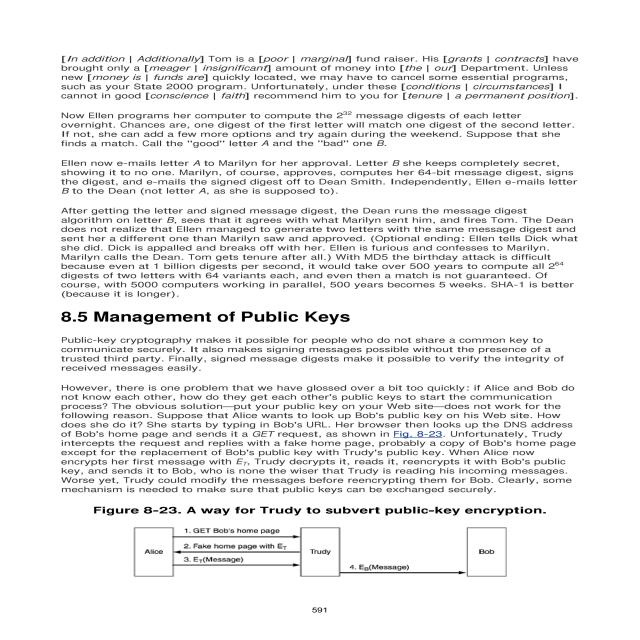diagram: (48, 498, 610, 597)
